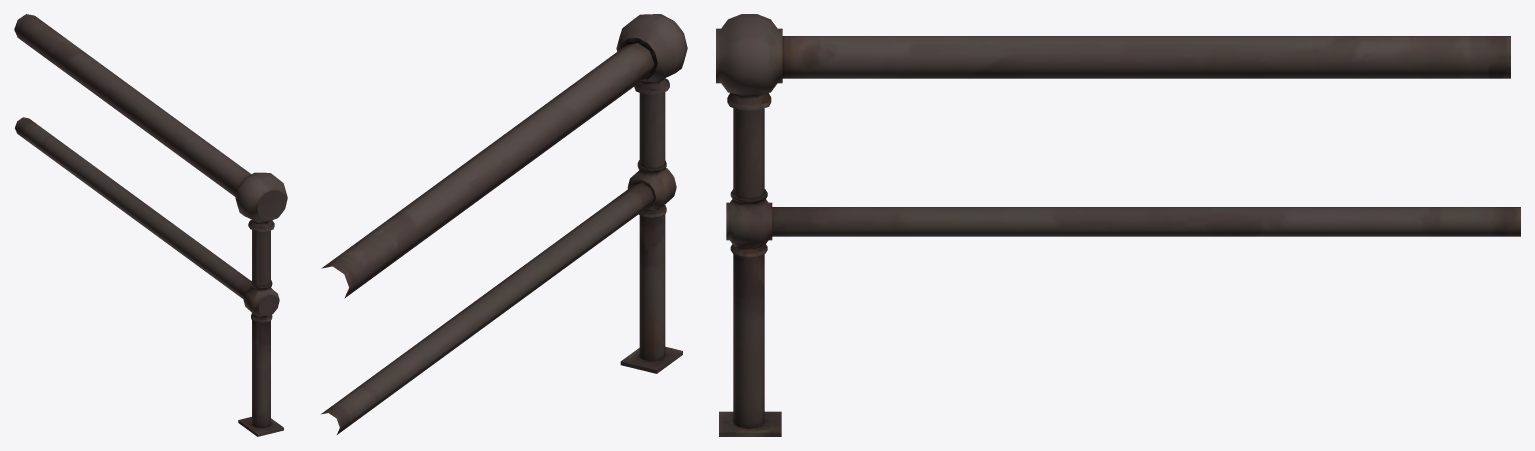
The picture shows the model from 3 angles, left to right: view 1: azimuth 30°, elevation 25°; view 2: azimuth 150°, elevation 25°; view 3: azimuth 270°, elevation 25°; orthographic projection. The views are drawn at different scales.
Visible parts, largest first — view 1: body0_model0_lod0_mesh0; view 2: body0_model0_lod0_mesh0; view 3: body0_model0_lod0_mesh0.
Part boxes in pixels (bbox=[...]): body0_model0_lod0_mesh0: bbox=[14, 14, 287, 436]; body0_model0_lod0_mesh0: bbox=[321, 14, 687, 434]; body0_model0_lod0_mesh0: bbox=[716, 14, 1520, 436].
Size of the model in its own units: 6.78 by 36.32 by 64.82.
1 material, 1 textured.
